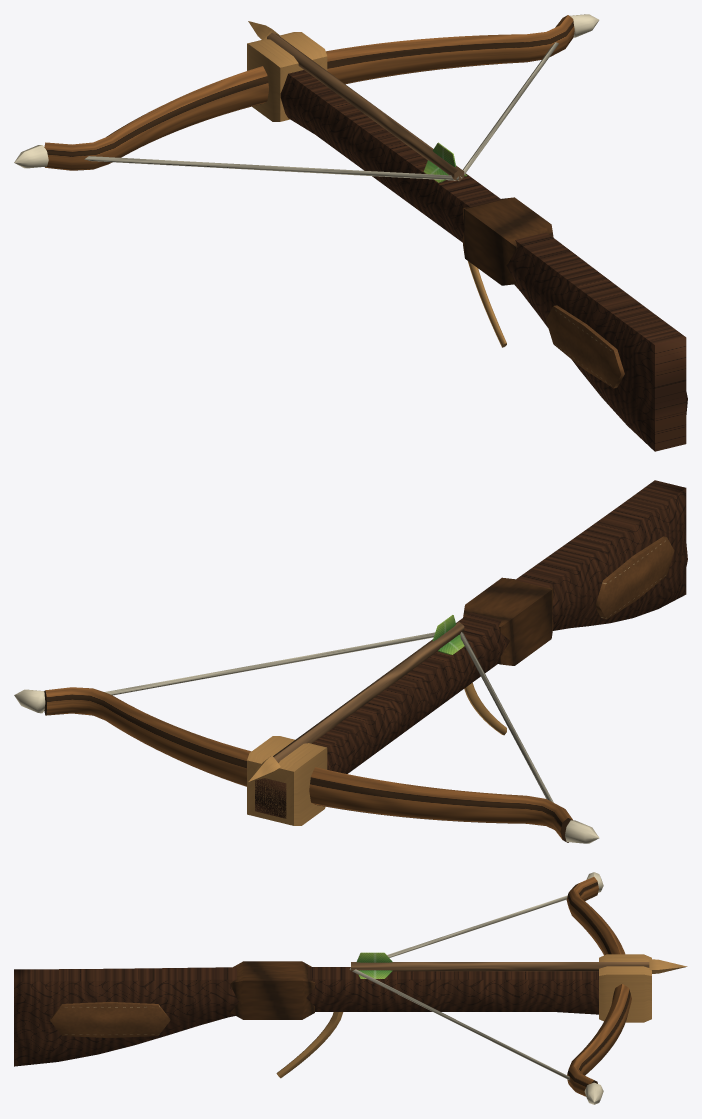
File: HuntersCrossbow.glb
3 views of the same model, one above another, from view 1: azimuth 30°, elevation 25°; view 2: azimuth 150°, elevation 25°; view 3: azimuth 270°, elevation 25° (orthographic). The views are drawn at different scales.
Parts seen in each view (by area): view 1: HuntersCrossbow; view 2: HuntersCrossbow; view 3: HuntersCrossbow.
Boxes of the visible parts, bbox=[...] form: HuntersCrossbow: bbox=[14, 14, 687, 451]; HuntersCrossbow: bbox=[14, 480, 687, 843]; HuntersCrossbow: bbox=[14, 872, 687, 1104].
Size of the model in its own units: 2.24 by 0.5735 by 2.8.
1 material, 1 textured.
